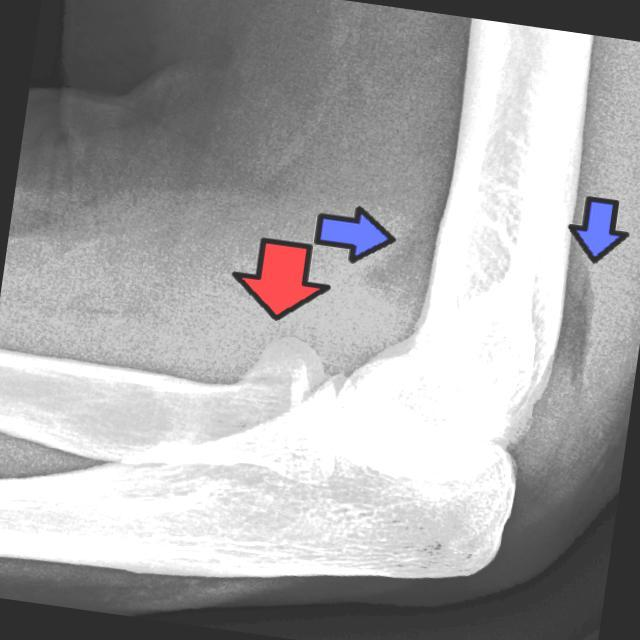Intra-articular fracture: (241, 325, 321, 400)
